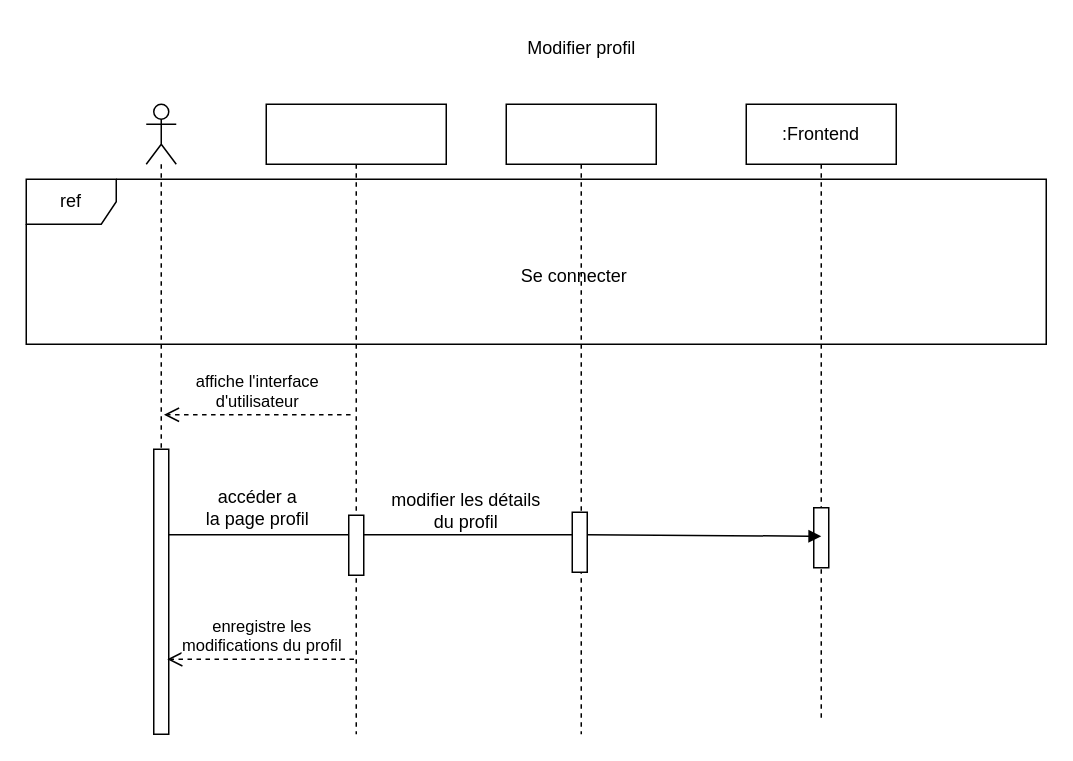
Image size: 1073x761. Some labels were removed from this diagram. Each missing label, with the box of its shape:
:BD: (505, 103, 656, 734)
:System: (265, 103, 446, 734)
